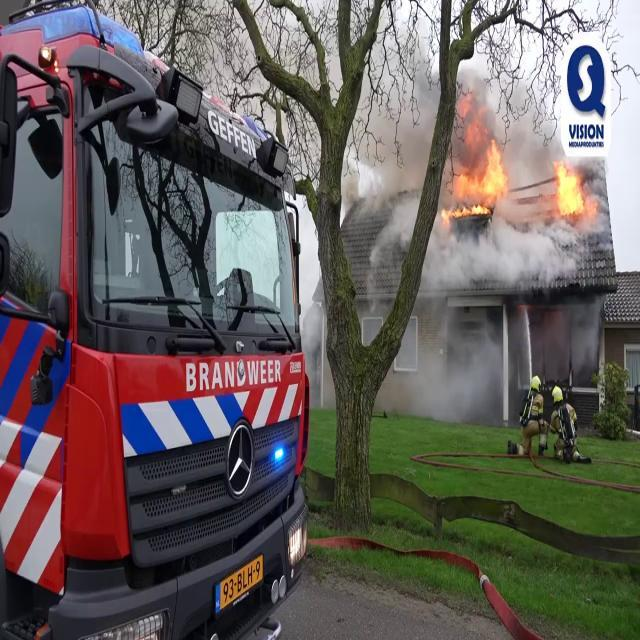Fire: (434, 100, 512, 220), (550, 157, 594, 221)
Smoke: (338, 49, 446, 239), (403, 310, 516, 424)
